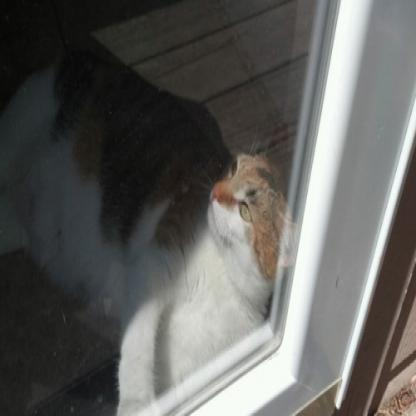Target: (0, 0, 304, 412)
